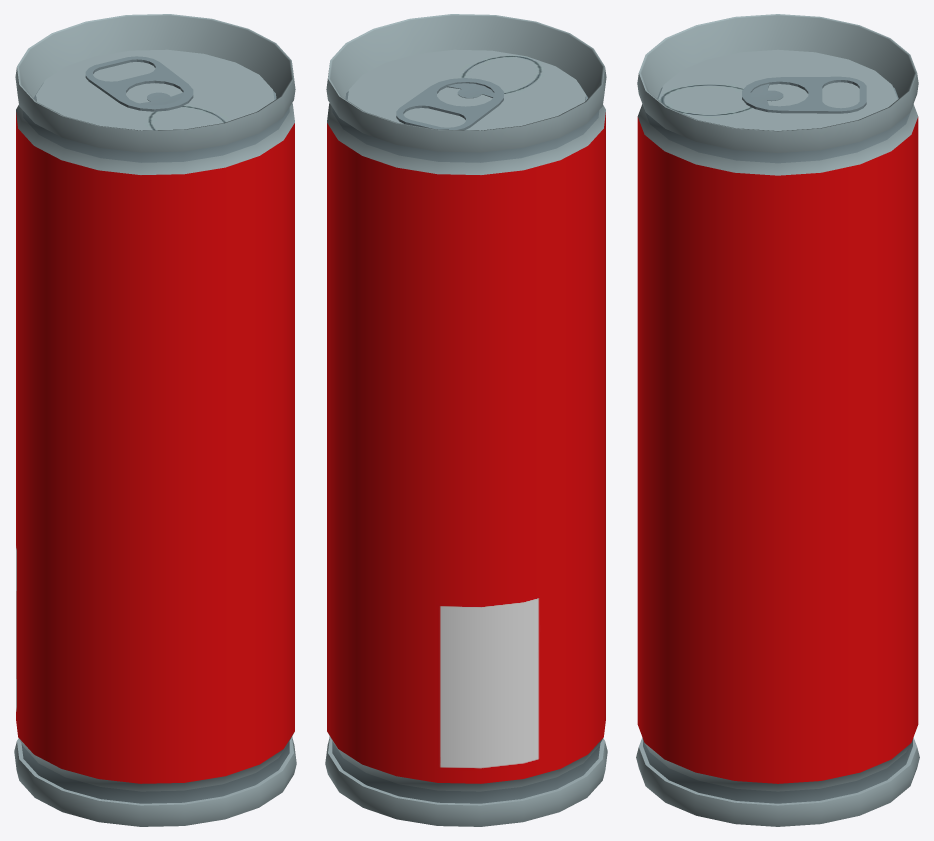
File: can1.fbx
3 views of the same model, side by side, from view 1: azimuth 30°, elevation 25°; view 2: azimuth 150°, elevation 25°; view 3: azimuth 270°, elevation 25° (orthographic).
Parts seen in each view (by area): view 1: pCylinder5; view 2: pCylinder5; view 3: pCylinder5.
Boxes of the visible parts, box(x1,y1,x2,y2) form: pCylinder5: box(14, 14, 296, 826); pCylinder5: box(325, 14, 607, 826); pCylinder5: box(636, 14, 919, 826).
Size of the model in its own units: 5.82 by 15.74 by 5.82.
Materials: 1 (1 with a texture image).
